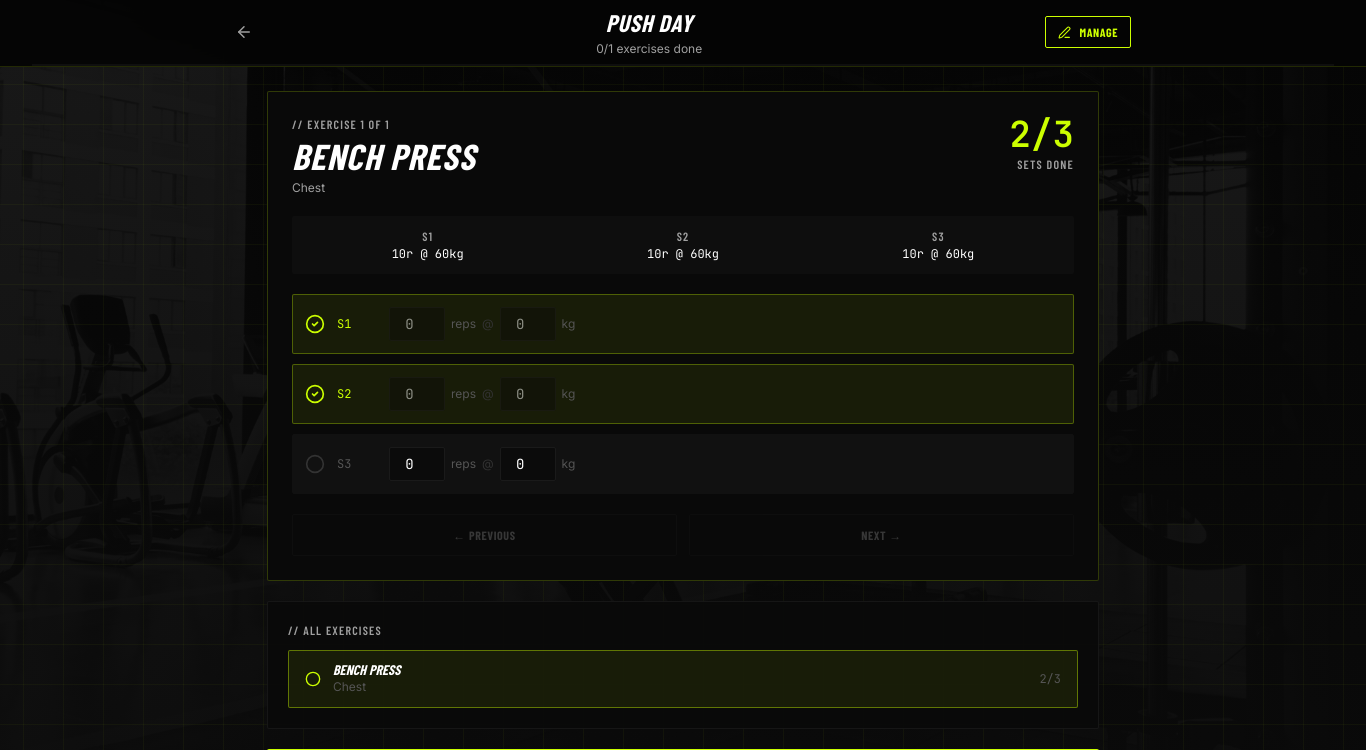
Scenario: adding exercises › a second exercise can be added (ids are read from `id`, not `_id`)
Expected: the heading "Push Day" is shown, [606,8,693,37]
Click the button "Manage" at (1088, 32), box [1046,16,1131,48]
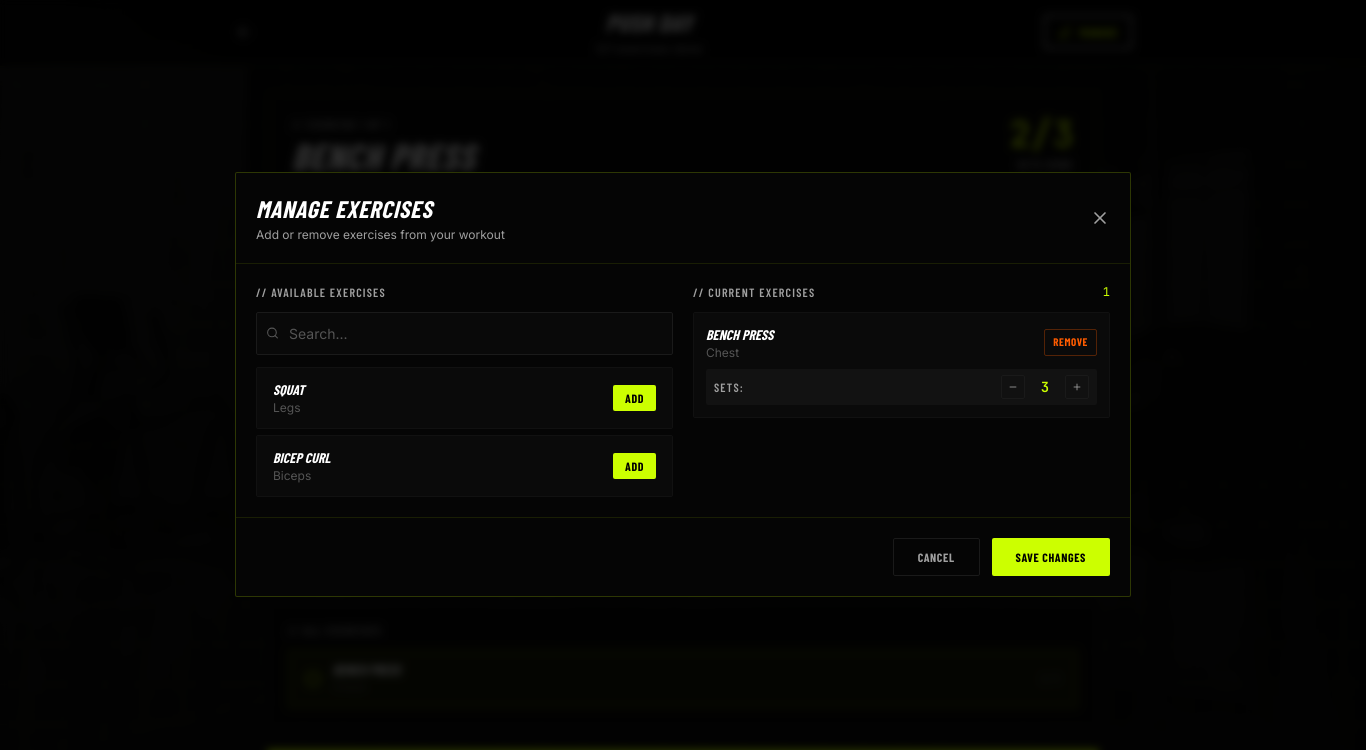
Expected: the heading "Manage Exercises" is shown, [256,194,432,222]
Click the button "Add" in the row of "Squat" at (634, 398), box [613,384,656,410]
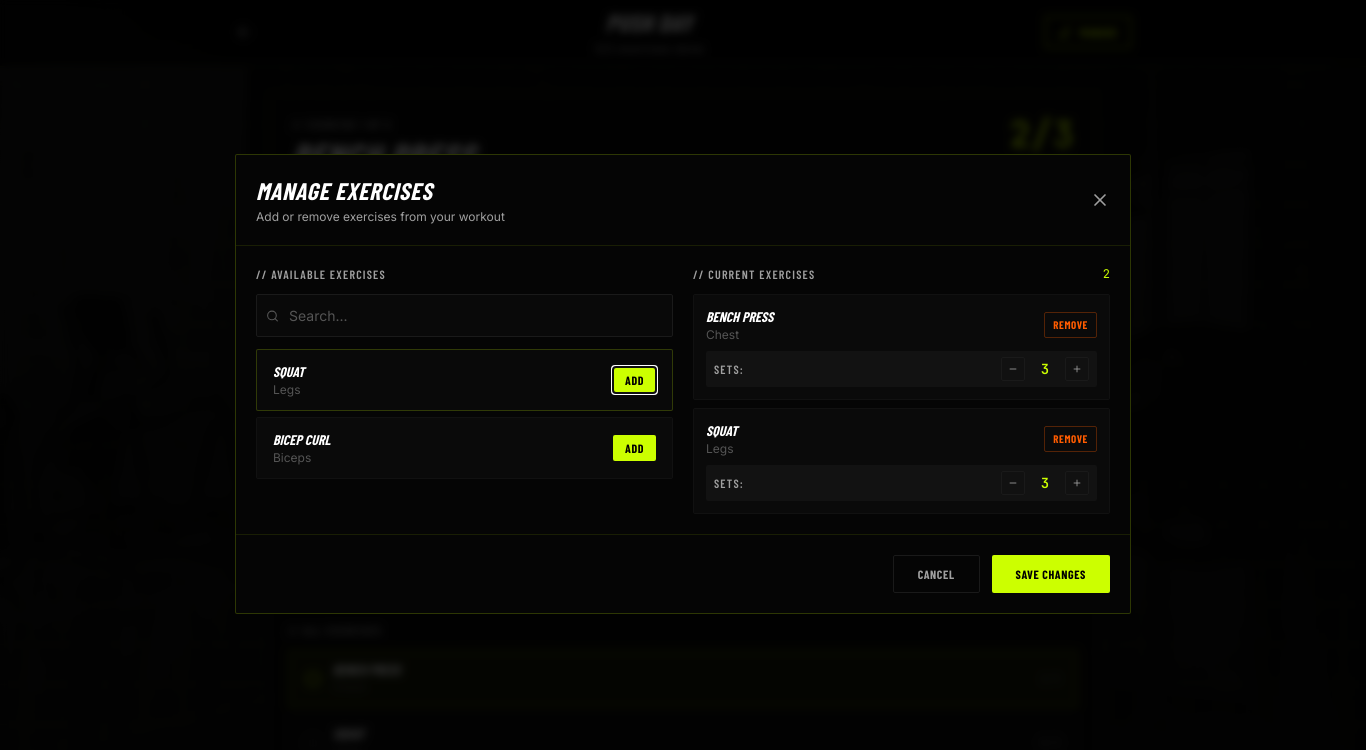
Click the button "Add" in the row of "Bicep Curl" at (634, 448), box [613,435,656,461]
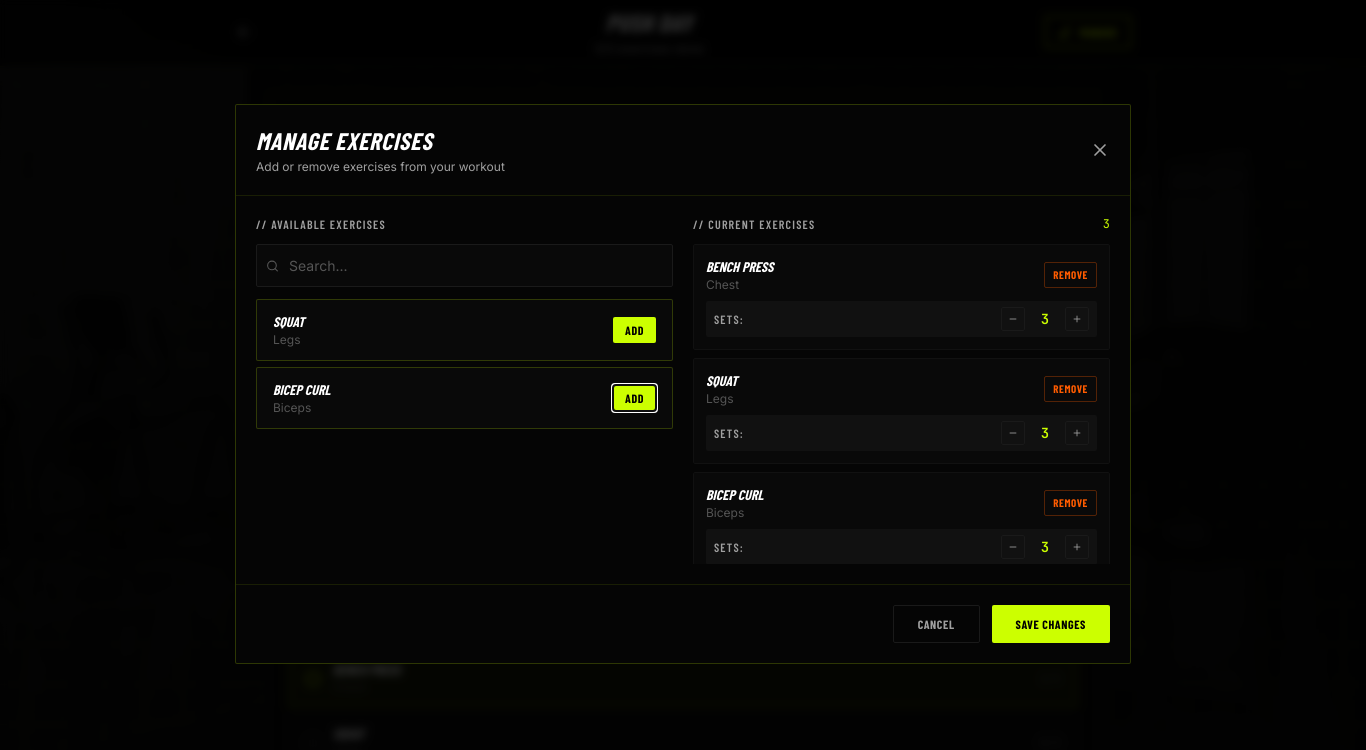
Expected: the text "Squat" below "// Current Exercises" is shown, [706,372,738,389]
Expected: the text "Bicep Curl" below "// Current Exercises" is shown, [706,486,764,503]
